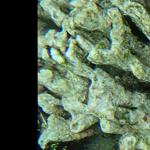dead: (36, 1, 148, 148)
